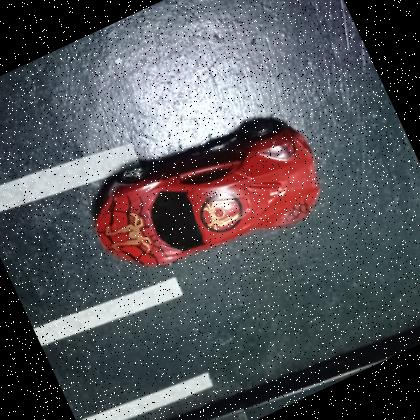Car: (92, 115, 321, 266)
